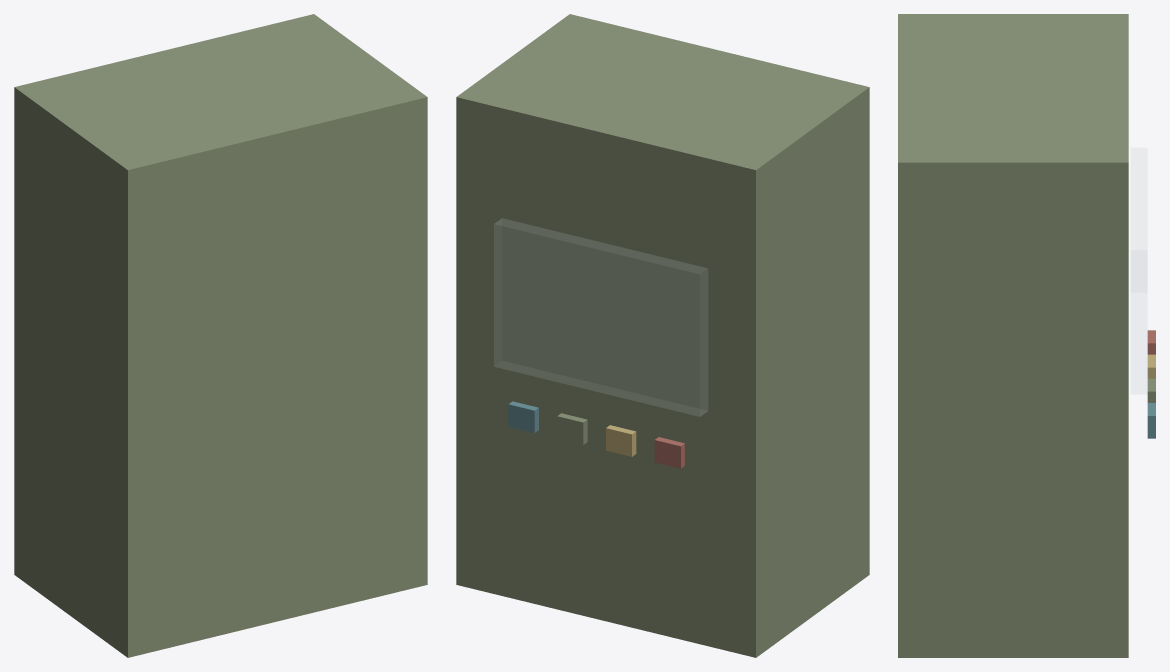
Rendered from iz2_mission_distress_radio.glb.
3 renders of one model, left to right at view 1: azimuth 30°, elevation 25°; view 2: azimuth 150°, elevation 25°; view 3: azimuth 270°, elevation 25°, orthographic.
Parts seen in each view (by area): view 1: body; view 2: body, screen; view 3: body, screen.
Boxes of the visible parts, x1,y1,x2,y2 form: body: [14, 14, 427, 657]; body: [456, 14, 869, 657]; screen: [494, 218, 707, 416]; body: [898, 14, 1155, 657]; screen: [1131, 148, 1147, 394].
Bounding box in the file's own units: 0.8278 × 1.29 × 0.6073.
